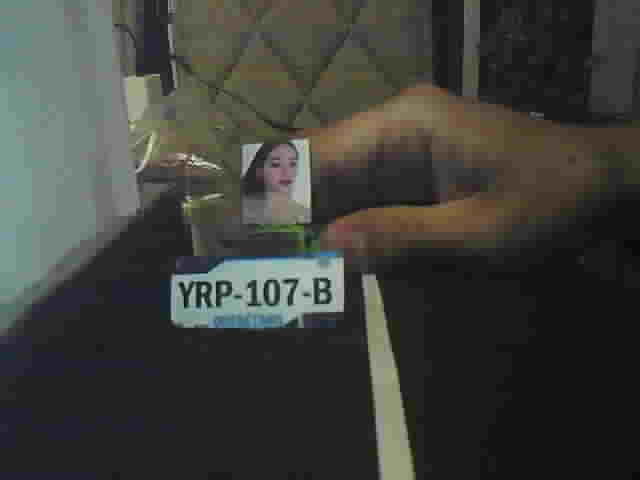PLACA: (167, 251, 350, 330)
ROSTRO: (243, 143, 308, 223)
